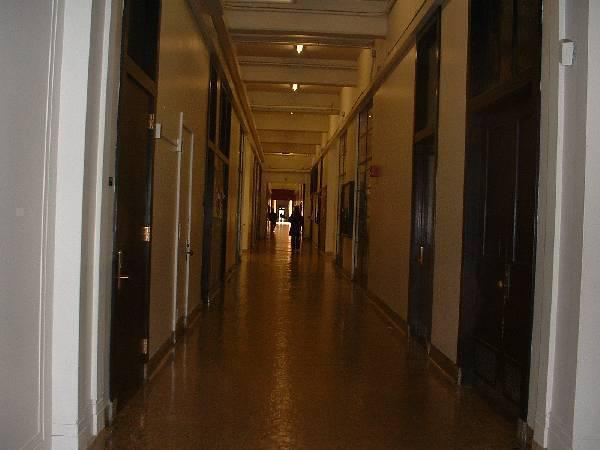Puerta: (473, 102, 534, 421), (107, 91, 161, 422), (407, 139, 437, 349), (177, 114, 193, 339)
